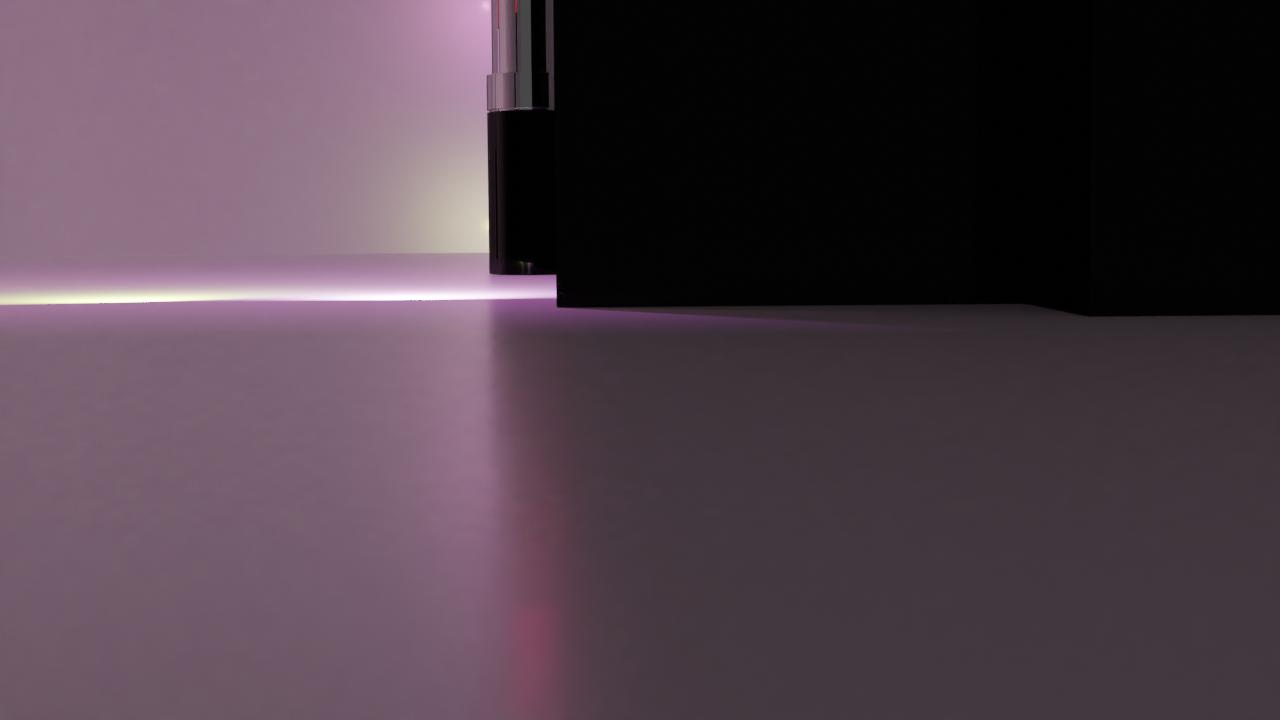CLASSIFIER_NAME: (485, 0, 577, 275)
